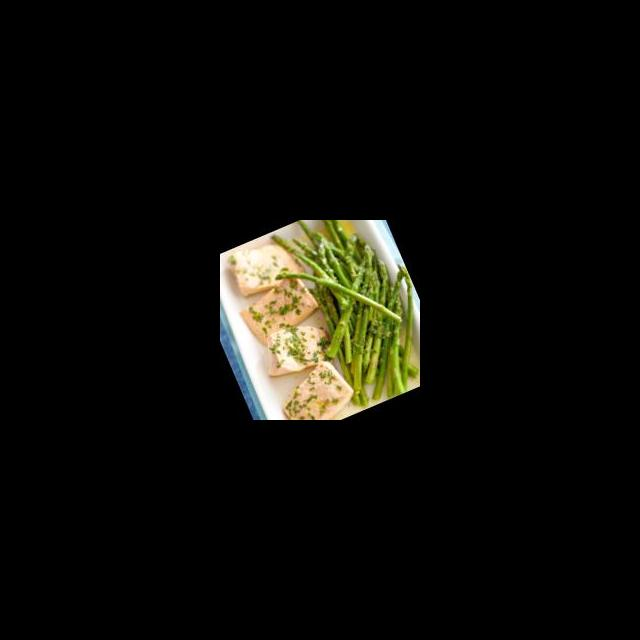ca hoi: (230, 272, 330, 350), (252, 311, 340, 389), (269, 354, 364, 420), (222, 230, 300, 299)
